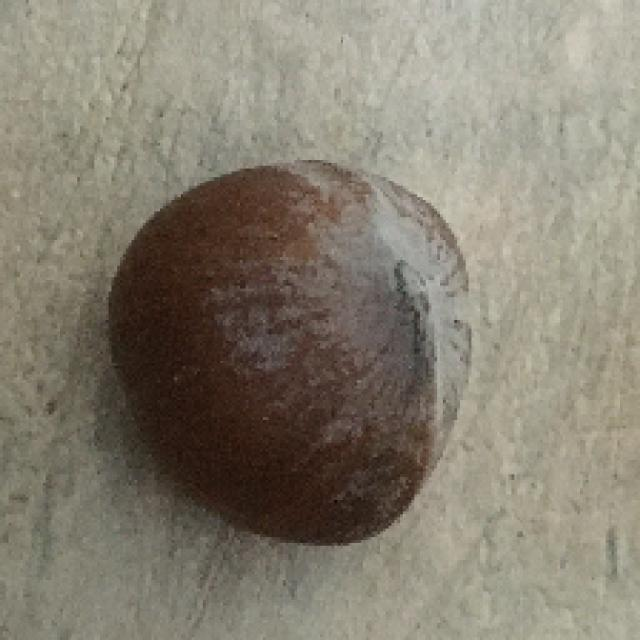QualityHazelnut: (106, 162, 476, 549)
